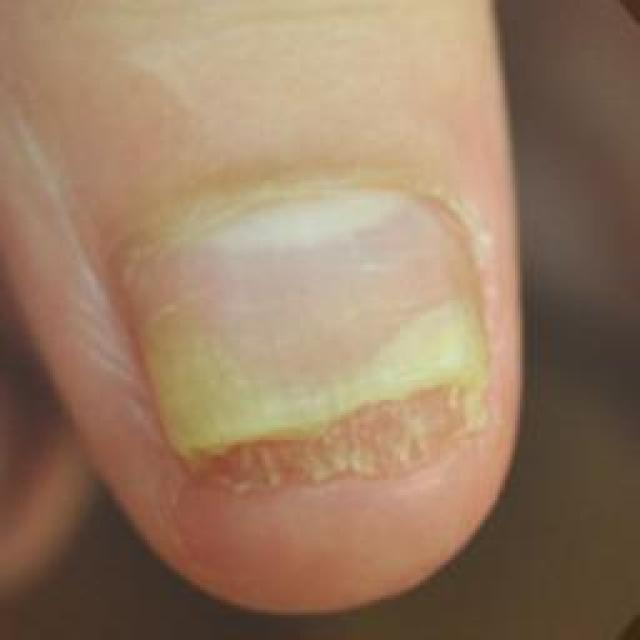Nail: (116, 189, 491, 496)
